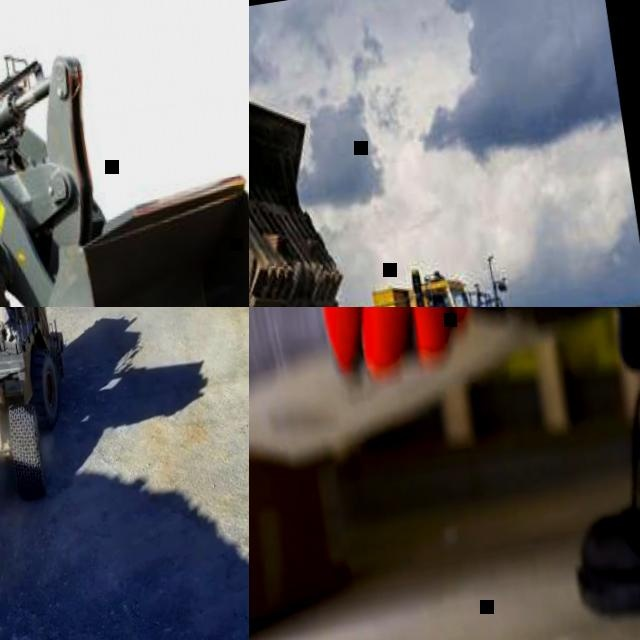Person: (306, 307, 640, 640)
machinery: (249, 36, 541, 307), (0, 0, 249, 307), (0, 307, 92, 526)
